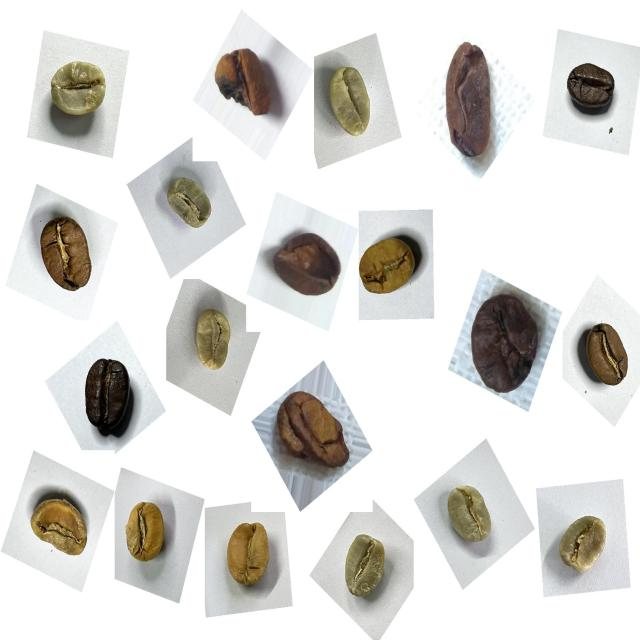bad: (429, 32, 513, 171), (460, 280, 551, 405), (266, 381, 356, 483), (266, 217, 346, 308), (206, 39, 286, 128)
dark: (71, 344, 143, 440), (557, 48, 627, 126)
green: (38, 48, 117, 138), (548, 500, 619, 588), (318, 57, 385, 150), (331, 523, 398, 612), (436, 475, 504, 560), (182, 300, 244, 386), (155, 166, 221, 242)
light: (22, 481, 98, 570), (353, 224, 430, 311), (212, 513, 280, 602), (118, 494, 179, 577)
medium: (29, 206, 108, 305), (574, 316, 638, 400)
